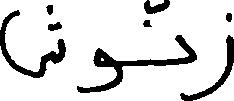X: (0, 0, 63, 82), (199, 8, 233, 100), (78, 43, 123, 97), (176, 30, 197, 100)
